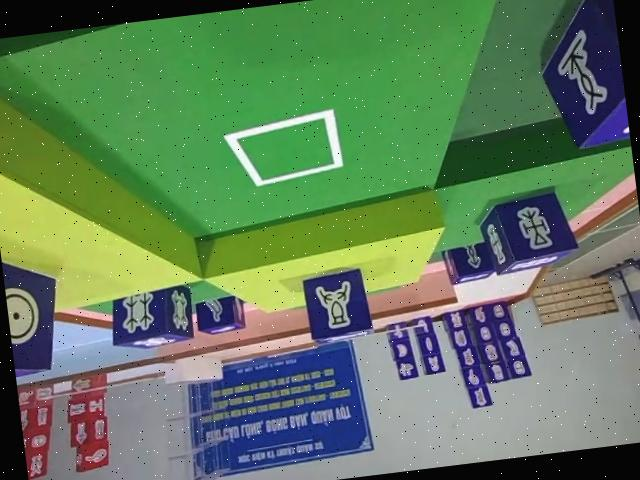R2 Real Blue: (531, 0, 630, 151), (474, 187, 578, 276), (0, 238, 65, 376), (107, 283, 198, 354), (302, 265, 376, 345), (438, 237, 494, 284), (192, 293, 247, 337)
